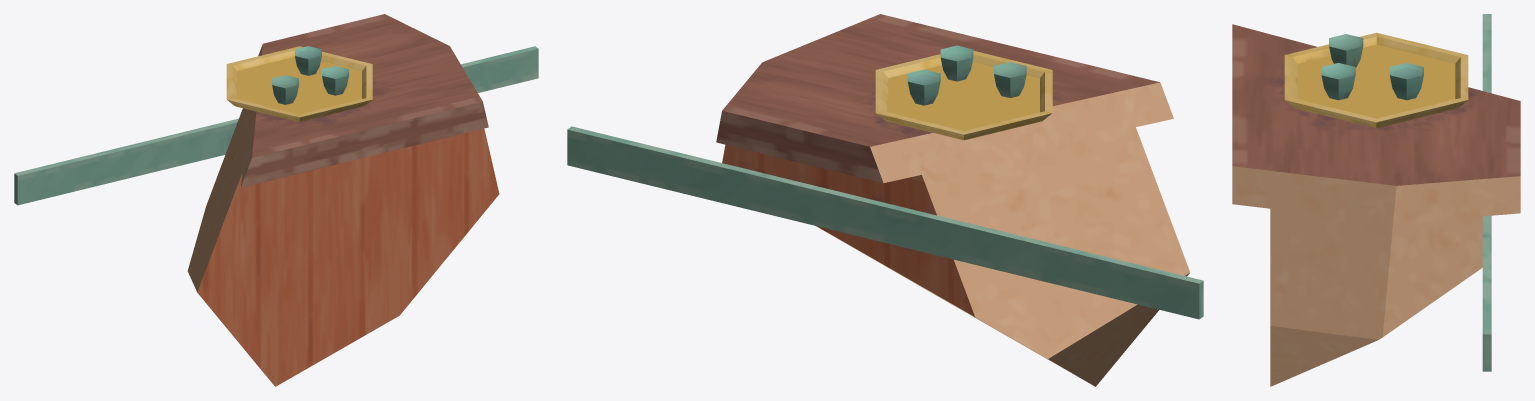
The model's file is counter_s06.fbx.
3 renders of one model, left to right at view 1: azimuth 30°, elevation 25°; view 2: azimuth 150°, elevation 25°; view 3: azimuth 270°, elevation 25°, orthographic. The views are drawn at different scales.
Parts seen in each view (by area): view 1: counter_s06; view 2: counter_s06; view 3: counter_s06.
Part boxes in pixels (x1,y1,x2,y2): counter_s06: (14,14,538,386); counter_s06: (567,14,1203,386); counter_s06: (1232,14,1520,386).
Bounding box in the file's own units: 5 × 2.51 × 1.9.
